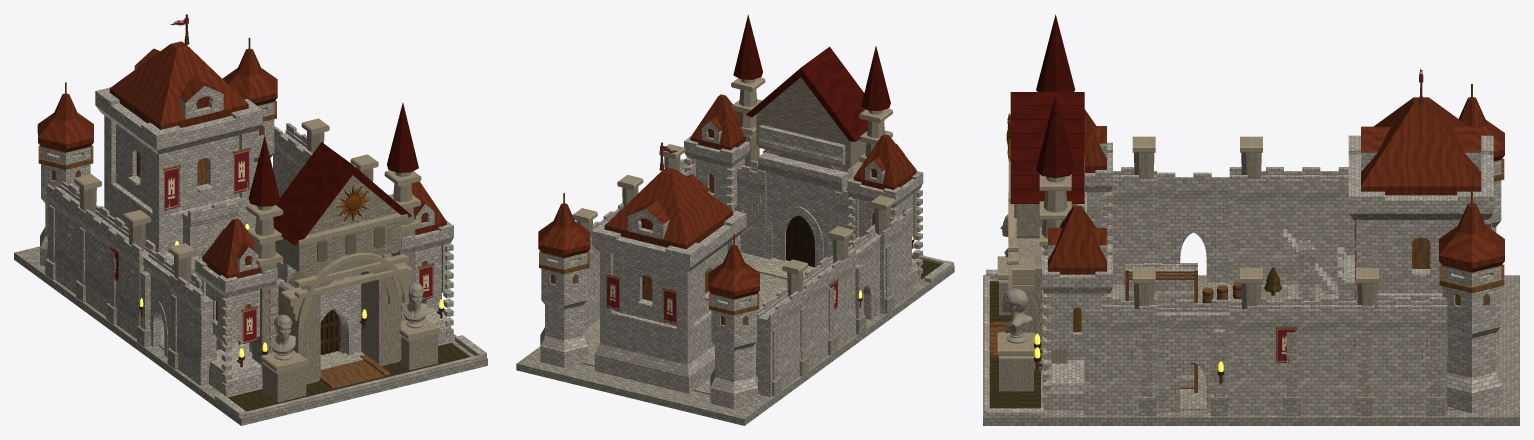
The picture shows the model from 3 angles, left to right: view 1: azimuth 30°, elevation 25°; view 2: azimuth 150°, elevation 25°; view 3: azimuth 270°, elevation 25°; orthographic projection. The views are drawn at different scales.
Parts seen in each view (by area): view 1: CastleStoneShell, CastleTimberDetails, RoyalBanners, DrawbridgeGeometry, PortcullisGeometry; view 2: CastleStoneShell, CastleTimberDetails, RoyalBanners; view 3: CastleStoneShell, CastleTimberDetails, RoyalBanners.
Boxes of the visible parts, left/top/right/bottom form: CastleStoneShell: left=14, top=66, right=487, bottom=425; CastleTimberDetails: left=37, top=17, right=470, bottom=411; RoyalBanners: left=110, top=14, right=433, bottom=343; DrawbridgeGeometry: left=320, top=354, right=390, bottom=388; PortcullisGeometry: left=320, top=309, right=340, bottom=355; CastleStoneShell: left=516, top=77, right=954, bottom=425; CastleTimberDetails: left=538, top=14, right=941, bottom=325; RoyalBanners: left=606, top=142, right=837, bottom=324; CastleStoneShell: left=983, top=135, right=1519, bottom=425; CastleTimberDetails: left=989, top=14, right=1504, bottom=408; RoyalBanners: left=1045, top=68, right=1491, bottom=363.
Bounding box in the file's own units: 11.68 × 11.45 × 18.5.
Materials: 4 (3 with a texture image).
